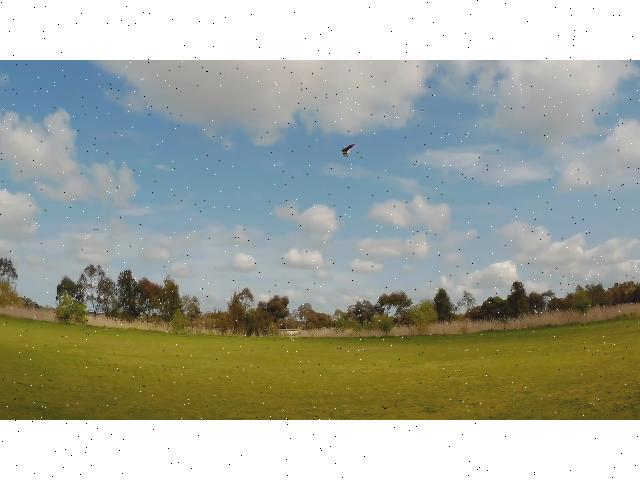Anti-Drone: (342, 144, 356, 158)
